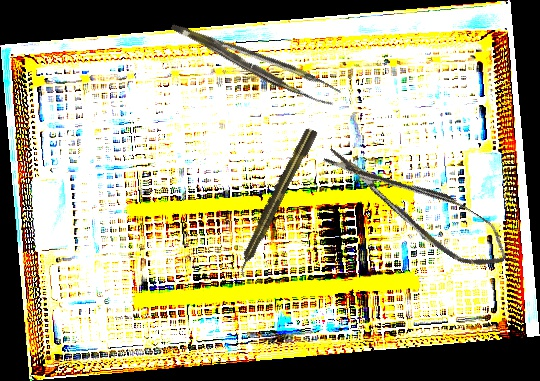Handpiece: (232, 126, 319, 278)
Micro Scissor: (317, 127, 517, 283)
Tissue Forceps: (170, 4, 342, 116)
